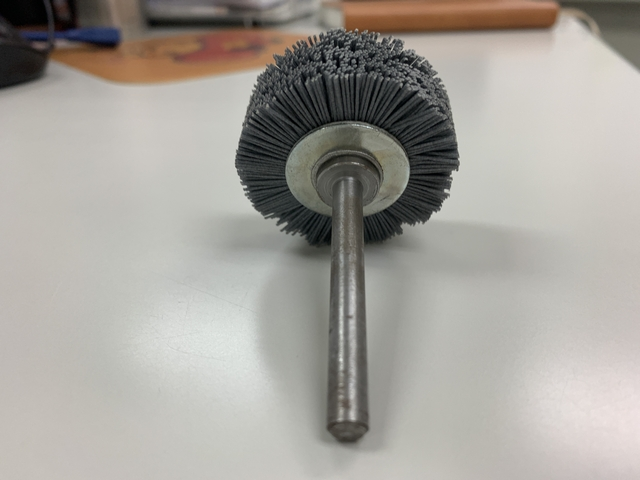Wheel Brush: (232, 21, 463, 441), (227, 27, 458, 436), (206, 21, 478, 308)
